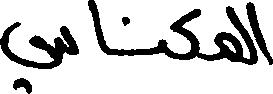X: (0, 17, 57, 93), (172, 4, 199, 64), (216, 1, 239, 66), (254, 1, 272, 69), (91, 0, 106, 58), (59, 21, 77, 69), (241, 0, 252, 69), (160, 34, 166, 59)
